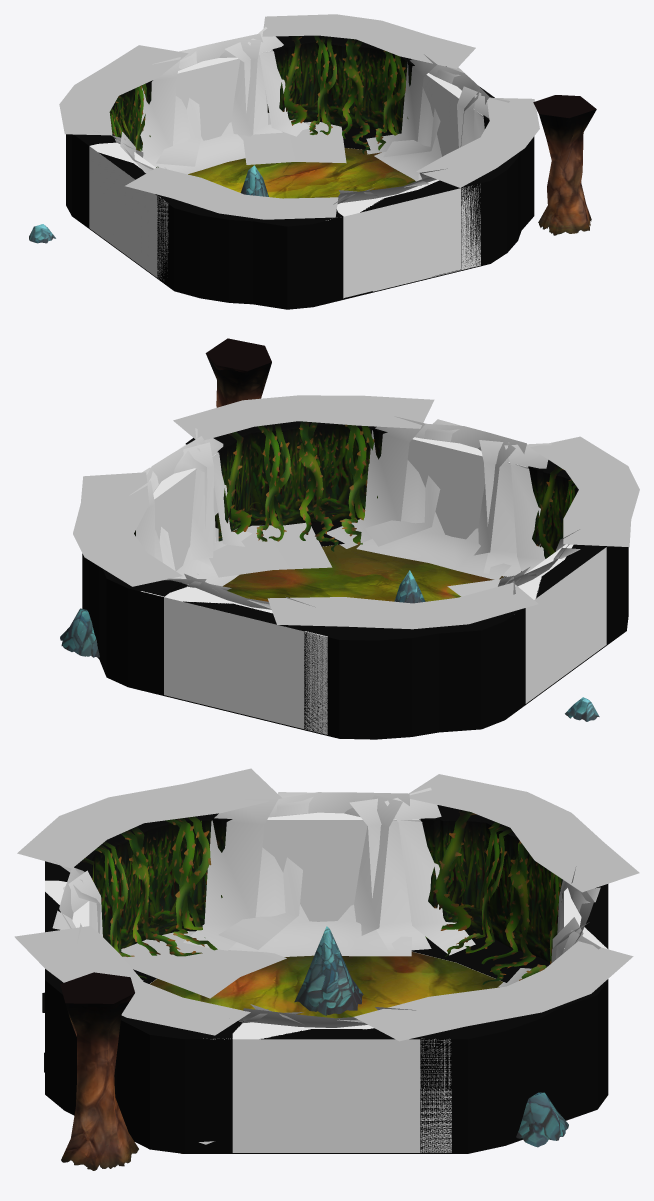
Rendered from Dungeon_021_StartRoom_001_Ev.fbx.
3 views of the same model, one above another, from view 1: azimuth 30°, elevation 25°; view 2: azimuth 150°, elevation 25°; view 3: azimuth 270°, elevation 25° (orthographic). The views are drawn at different scales.
Parts seen in each view (by area): view 1: Dun_011_StartRoom_001_wall, Dungeon_021_Tsuta_002, un_021_Door_002_Object1 (×4), DoorWay_NavMask (1) (×2), DoorWay_NavMask (×4), Dun_011_StartRoom_001_ground, Dungeon_011_Object_010, Dungeon_021_Tsuta_001, Dungeon_021_Tsuta_003, un_021_Door_002 (×3), Dun_011_StartRoom_001_shadow, Dungeon_011_Object_011; view 2: Dun_011_StartRoom_001_wall, Dungeon_021_Tsuta_002, un_021_Door_002_Object1 (×4), DoorWay_NavMask (1) (×2), DoorWay_NavMask (×2), Dun_011_StartRoom_001_ground, Dungeon_021_Tsuta_001, un_021_Door_002 (×4), Dungeon_021_Tsuta_003, Dungeon_011_Object_010, Dungeon_011_Object_012, Dungeon_011_Object_011; view 3: Dun_011_StartRoom_001_wall, Dungeon_021_Tsuta_002, un_021_Door_002_Object1 (×4), DoorWay_NavMask (1), Dungeon_021_Tsuta_001, Dun_011_StartRoom_001_ground, Dungeon_011_Object_010, DoorWay_NavMask (×2), un_021_Door_002 (×4), Dungeon_021_Tsuta_003, Dungeon_011_Object_011, Dun_011_StartRoom_001_shadow (+1 smaller).
Part boxes in pixels (x1,y1,x2,y2): Dun_011_StartRoom_001_wall: (66, 35, 534, 309); Dungeon_021_Tsuta_002: (59, 14, 539, 219); un_021_Door_002_Object1 (×4): (111, 27, 509, 204); DoorWay_NavMask (1) (×2): (89, 143, 480, 298); DoorWay_NavMask (×4): (90, 50, 483, 216); Dun_011_StartRoom_001_ground: (188, 148, 415, 198); Dungeon_011_Object_010: (533, 95, 596, 235); Dungeon_021_Tsuta_001: (110, 35, 405, 167); Dungeon_021_Tsuta_003: (242, 122, 421, 180); un_021_Door_002 (×3): (75, 36, 486, 299); Dun_011_StartRoom_001_shadow: (342, 127, 460, 298); Dungeon_011_Object_011: (240, 165, 268, 196); Dun_011_StartRoom_001_wall: (82, 421, 628, 739); Dungeon_021_Tsuta_002: (73, 395, 639, 629); un_021_Door_002_Object1 (×4): (129, 416, 580, 609); DoorWay_NavMask (1) (×2): (141, 547, 606, 734); DoorWay_NavMask (×2): (153, 437, 528, 570); Dun_011_StartRoom_001_ground: (223, 544, 503, 601); Dungeon_021_Tsuta_001: (226, 421, 576, 555); un_021_Door_002 (×4): (134, 426, 606, 729); Dungeon_021_Tsuta_003: (209, 522, 500, 596); Dungeon_011_Object_010: (205, 338, 271, 407); Dungeon_011_Object_012: (60, 608, 99, 657); Dungeon_011_Object_011: (394, 570, 425, 603); Dun_011_StartRoom_001_wall: (45, 810, 608, 1153); Dungeon_021_Tsuta_002: (14, 768, 639, 1041); un_021_Door_002_Object1 (×4): (52, 787, 600, 1027); DoorWay_NavMask (1): (203, 1026, 451, 1152); Dungeon_021_Tsuta_001: (82, 810, 561, 984); Dun_011_StartRoom_001_ground: (150, 951, 502, 1153); Dungeon_011_Object_010: (60, 972, 138, 1170); DoorWay_NavMask (×2): (45, 813, 420, 927); un_021_Door_002 (×4): (45, 805, 608, 1153); Dungeon_021_Tsuta_003: (121, 931, 286, 1144); Dungeon_011_Object_011: (294, 926, 363, 1015); Dun_011_StartRoom_001_shadow: (42, 933, 550, 1072).
Size of what is drawn, in the model's own units: 11.98 by 2.96 by 10.
